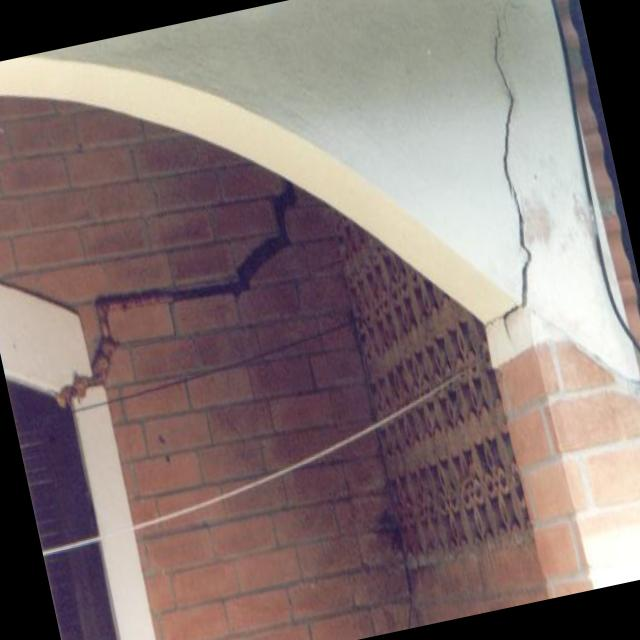crack: (59, 174, 295, 404)
